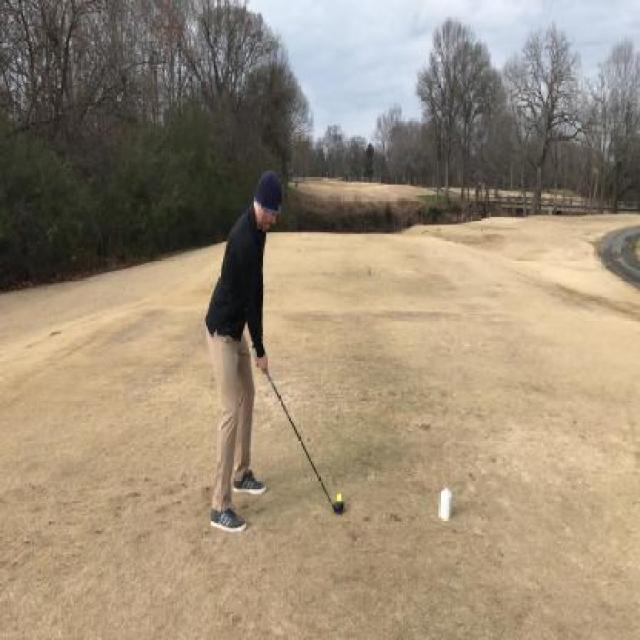club head: (330, 500, 345, 514)
